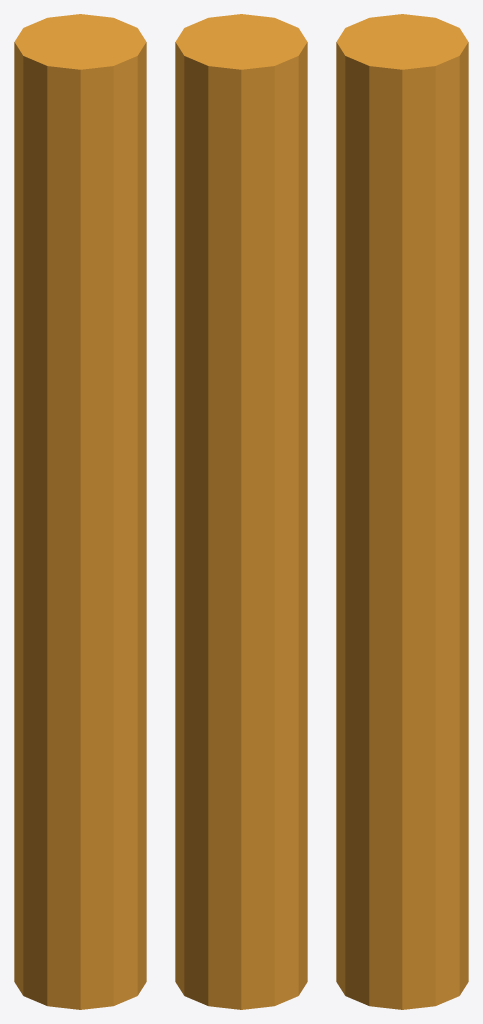
Rendered from SM_Laser_Canon.obj.
3 renders of one model, left to right at view 1: azimuth 30°, elevation 25°; view 2: azimuth 150°, elevation 25°; view 3: azimuth 330°, elevation 25°, orthographic.
Bounding box in the file's own units: 280 × 2200 × 280.
